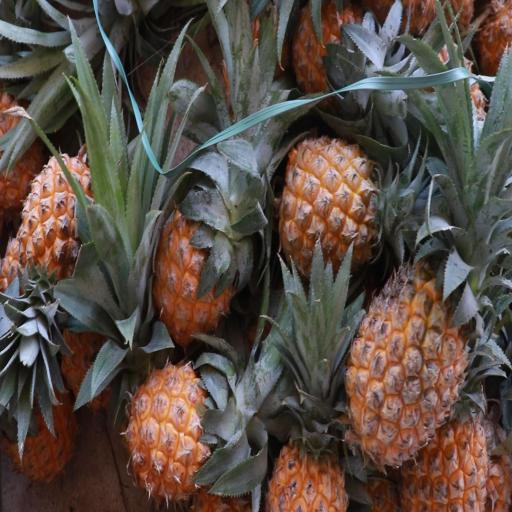Pineapple - v8 v1: (339, 234, 488, 473), (276, 126, 416, 292), (119, 352, 254, 508), (143, 184, 252, 356), (15, 150, 119, 322), (261, 366, 350, 512), (287, 0, 390, 126)
